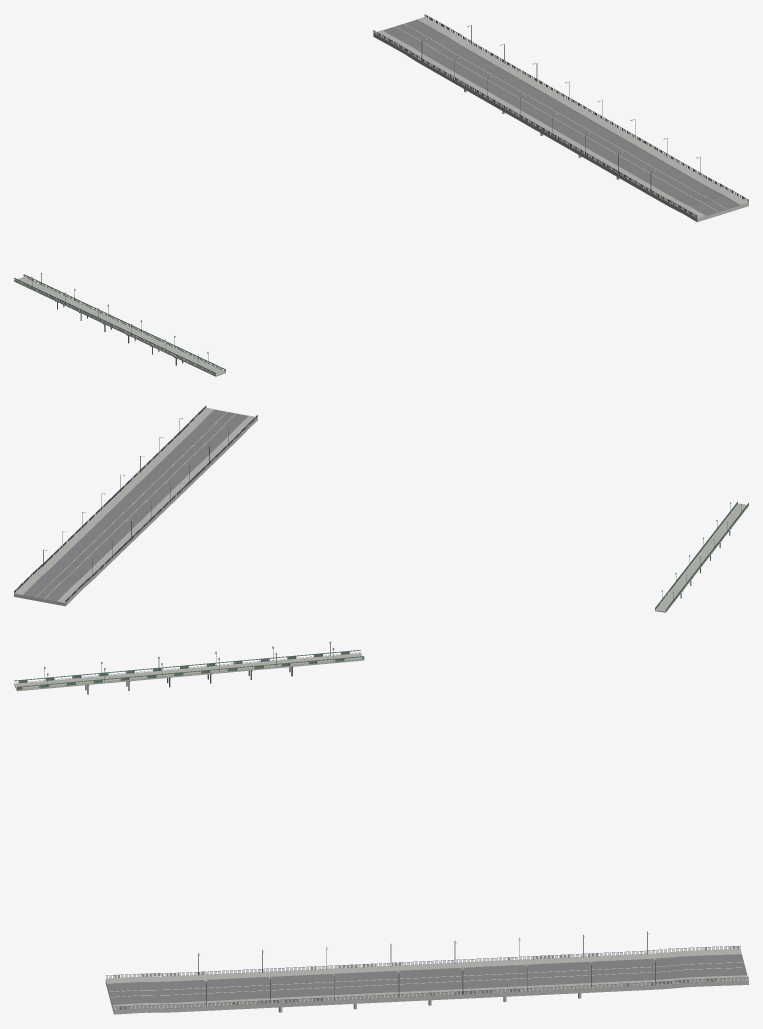
File: luzern_stege.glb
3 renders of one model, top to bottom at view 1: azimuth 30°, elevation 25°; view 2: azimuth 150°, elevation 25°; view 3: azimuth 270°, elevation 25°, orthographic. The views are drawn at different scales.
Visible parts, largest first — view 1: Seebruecke_mesh, Rathaussteg_mesh; view 2: Seebruecke_mesh, Rathaussteg_mesh; view 3: Seebruecke_mesh, Rathaussteg_mesh.
Part boxes in pixels (left/top/right/bottom): Seebruecke_mesh: left=373, top=14, right=748, bottom=222; Rathaussteg_mesh: left=14, top=273, right=225, bottom=376; Seebruecke_mesh: left=14, top=405, right=257, bottom=606; Rathaussteg_mesh: left=655, top=501, right=748, bottom=612; Seebruecke_mesh: left=105, top=931, right=748, bottom=1014; Rathaussteg_mesh: left=14, top=641, right=364, bottom=694.
Size of the model in its own units: 271 by 12.74 by 235.
